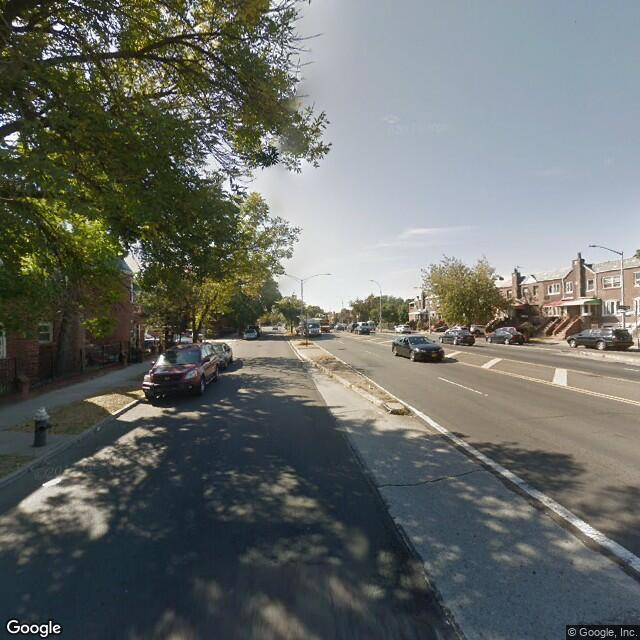litter: (39, 475, 65, 487), (94, 422, 101, 433)
